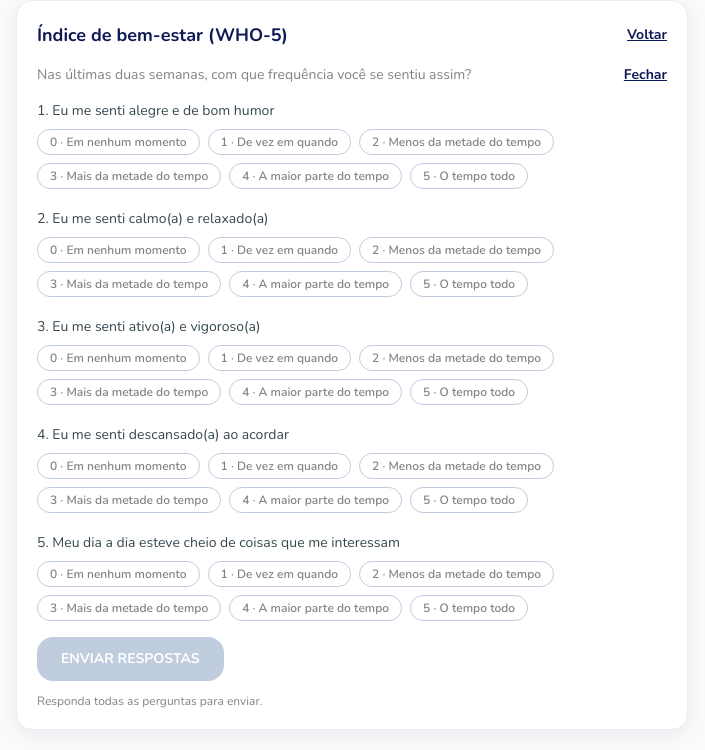
Test: AssessmentPage › mostra a dica de formulário incompleto e a esconde quando todas as perguntas são respondidas
The image size is (705, 750).
Expected: the text "Nas últimas duas semanas" is shown, [37,65,471,84]
Expected: the button "Enviar respostas" is disabled, [37,637,224,681]
Click the button "0 · Em nenhum momento" below "Eu me senti alegre e de bom humor": coordinates (118, 142) [37,129,200,155]
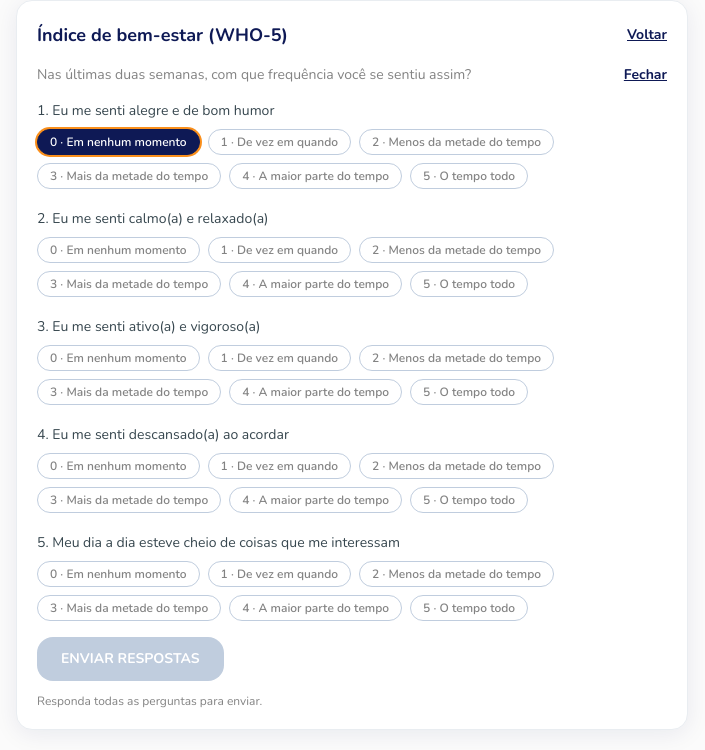
Click the button "0 · Em nenhum momento" below "Eu me senti calmo(a) e relaxado(a)": coordinates (118, 250) [37,237,200,263]
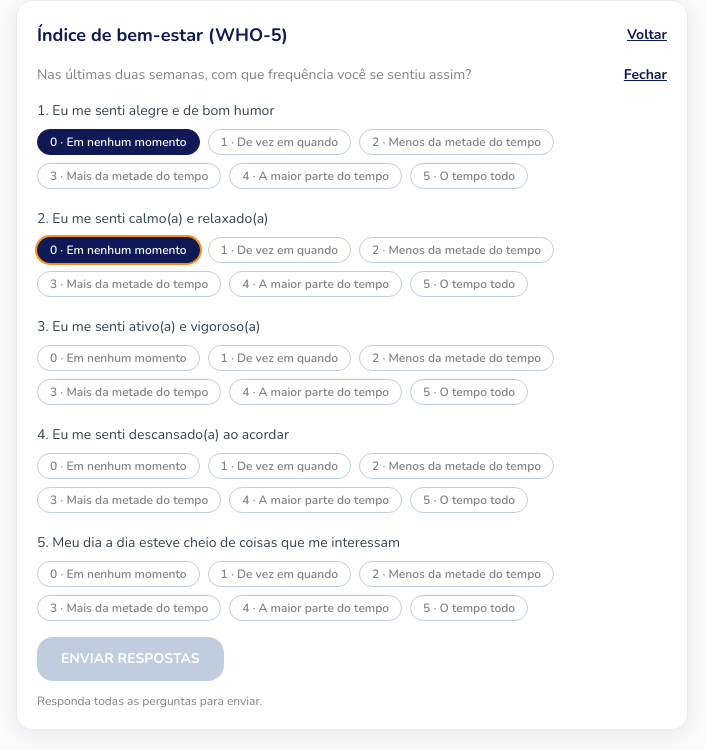
Click the button "0 · Em nenhum momento" below "Eu me senti ativo(a) e vigoroso(a)": coordinates (118, 358) [37,345,200,371]
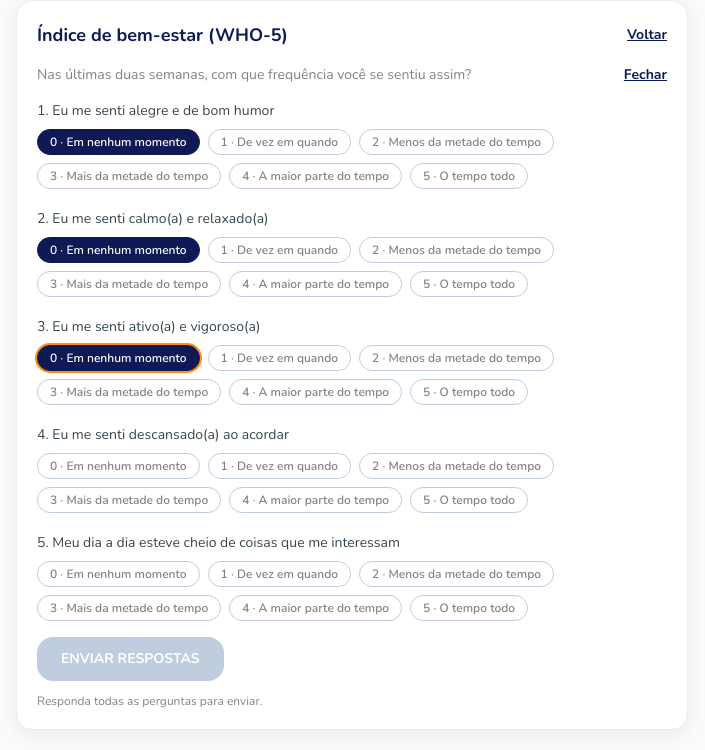
Click the button "0 · Em nenhum momento" below "Eu me senti descansado(a) ao acordar": coordinates (118, 466) [37,453,200,479]
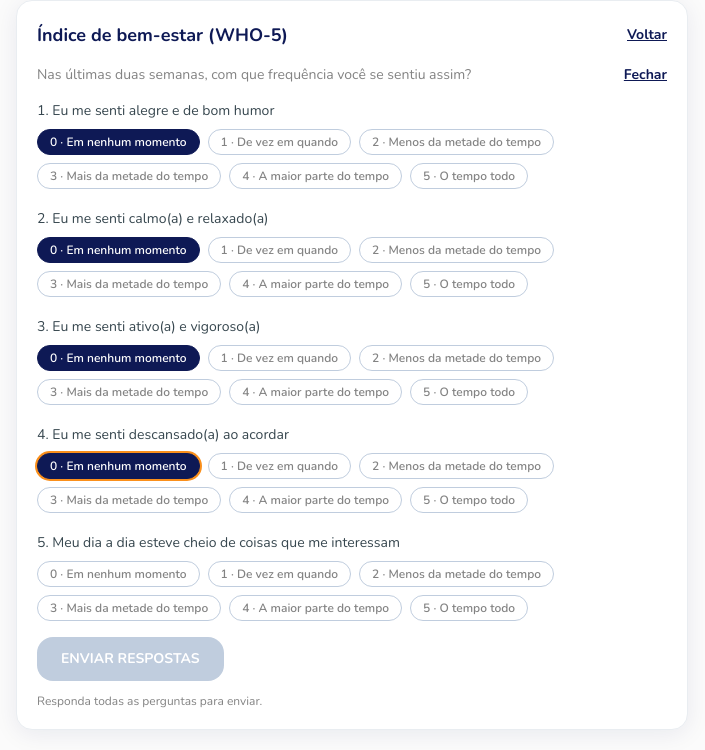
Click the 5th button "0 · Em nenhum momento": coordinates (118, 574) [37,561,200,587]
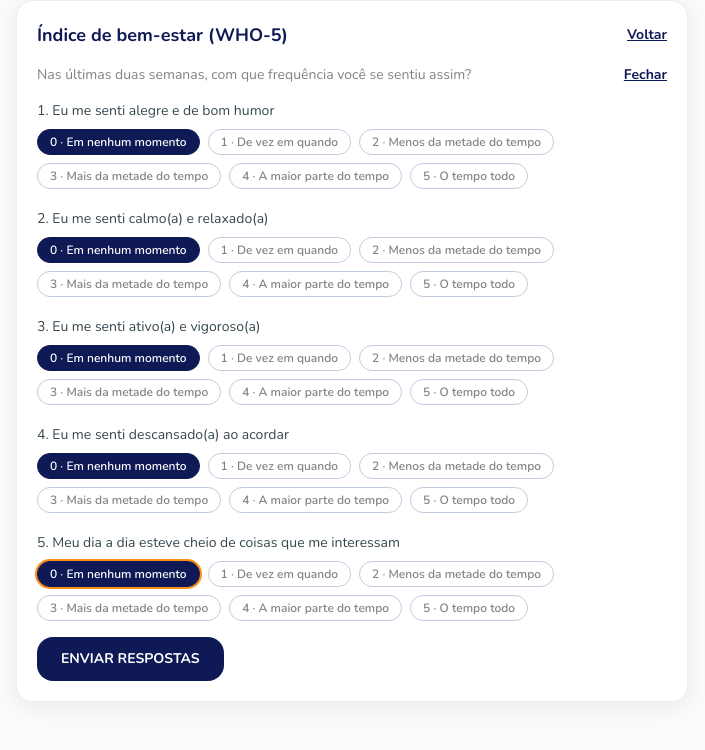
Expected: the button "Enviar respostas" is enabled, [37,637,224,681]
Expected: the text "Responda todas as perguntas para enviar." is gone
